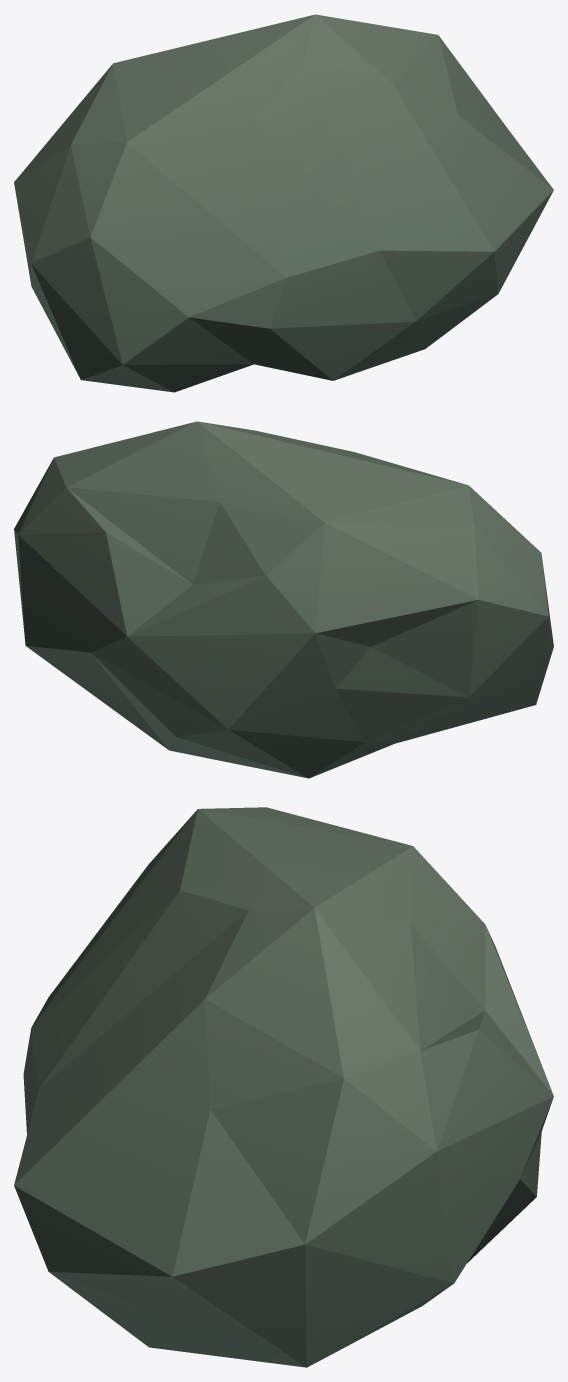
Rendered from Rock_Big_1.fbx.
3 renders of one model, top to bottom at view 1: azimuth 30°, elevation 25°; view 2: azimuth 150°, elevation 25°; view 3: azimuth 270°, elevation 25°, orthographic. The views are drawn at different scales.
Parts seen in each view (by area): view 1: Rock_Big_1; view 2: Rock_Big_1; view 3: Rock_Big_1.
Boxes of the visible parts, x1,y1,x2,y2 form: Rock_Big_1: [14, 14, 553, 392]; Rock_Big_1: [14, 421, 553, 778]; Rock_Big_1: [14, 807, 553, 1367].
Bounding box in the file's own units: 436 × 257 × 297.
